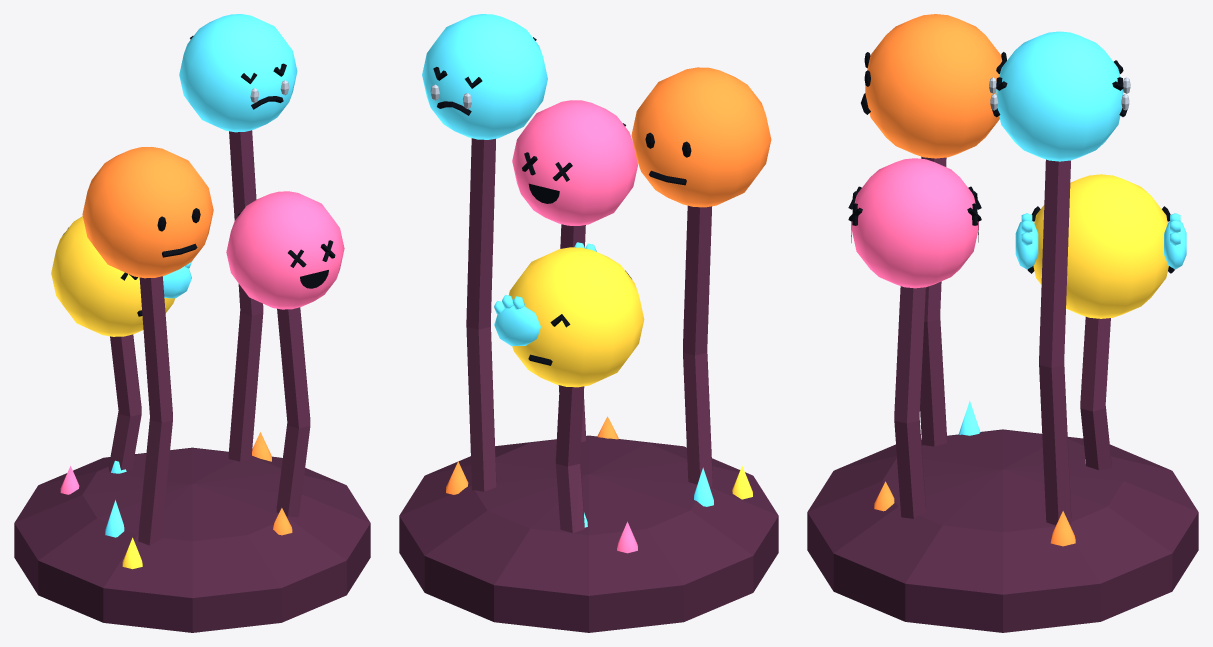
File: EmojiCoral_3.fbx
3 renders of one model, left to right at view 1: azimuth 30°, elevation 25°; view 2: azimuth 150°, elevation 25°; view 3: azimuth 270°, elevation 25°, orthographic. The views are drawn at different scales.
Visible parts, largest first — view 1: KIT_EmojiCoral_3_Mesh; view 2: KIT_EmojiCoral_3_Mesh; view 3: KIT_EmojiCoral_3_Mesh.
Part boxes in pixels (box(x1,y1,x2,y2)): KIT_EmojiCoral_3_Mesh: box(14, 14, 370, 632); KIT_EmojiCoral_3_Mesh: box(399, 14, 778, 632); KIT_EmojiCoral_3_Mesh: box(807, 14, 1198, 632).
Size of the model in its own units: 3.79 by 6.34 by 3.79.
